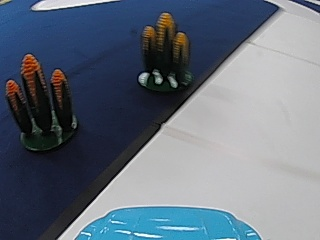corn: (4, 52, 80, 149), (137, 9, 191, 92)
